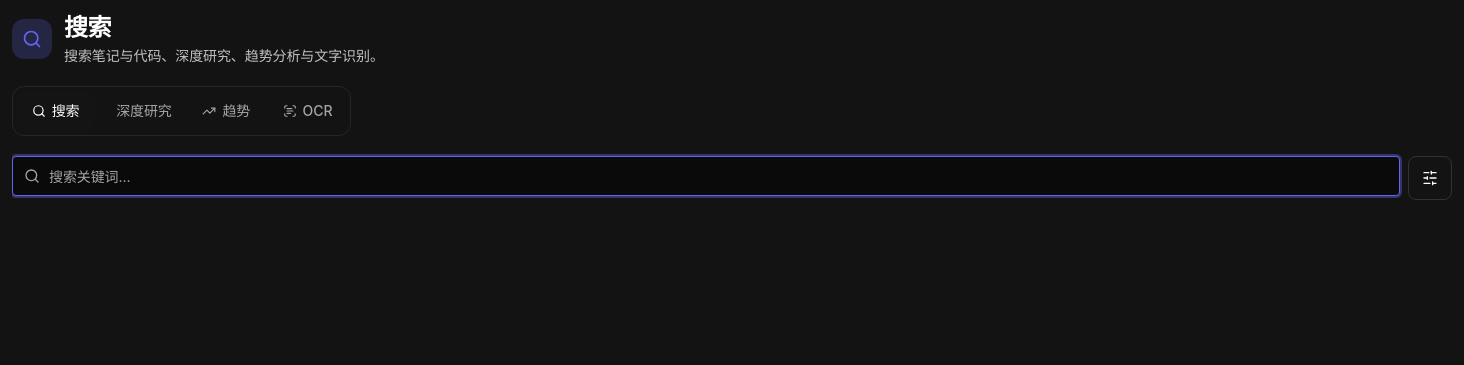
Test: Search page — usage scenarios › shows a no-results message after a query with no matches
Type "zzz-no-match" into the field labelled "搜索关键词" at (706, 176), box top-left (12, 156), bottom-right (1400, 196)
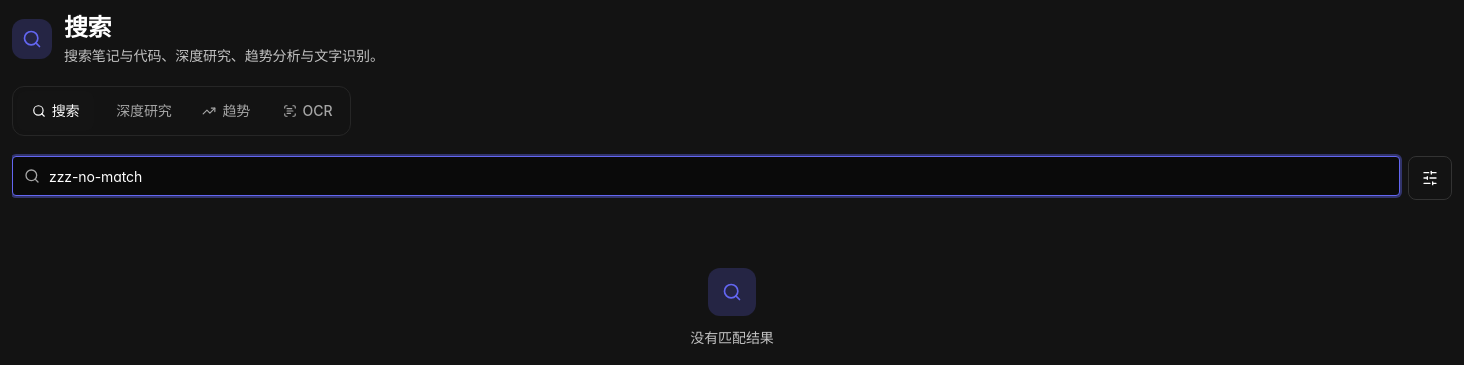
Check: the text "没有匹配结果" is shown, box top-left (690, 328), bottom-right (774, 348)
